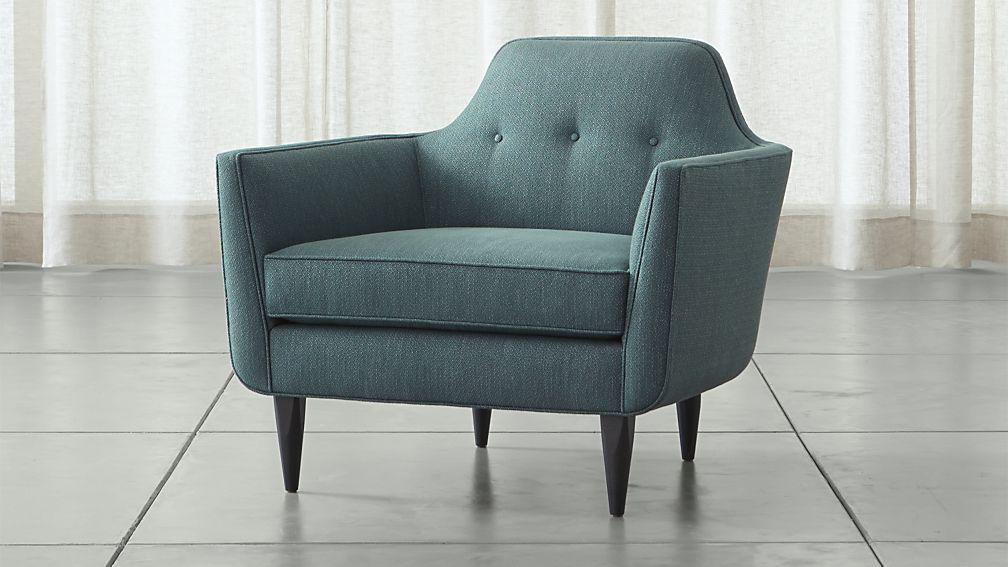chair: (167, 24, 893, 526)
